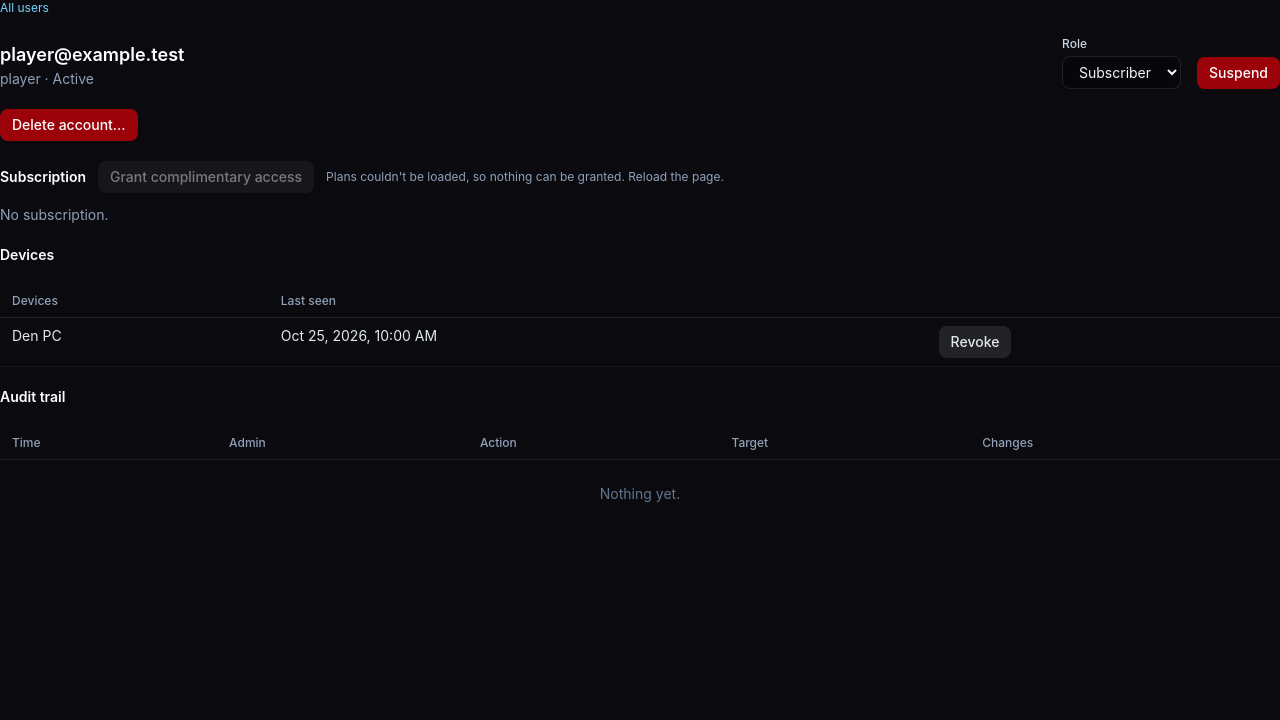
Test: User detail (S13, US-F3, FR-AUTH-7) › US-F3: Suspend needs a reason and sends it; the status updates
Click the button "Suspend" at (1238, 73), box [1197,57,1279,89]
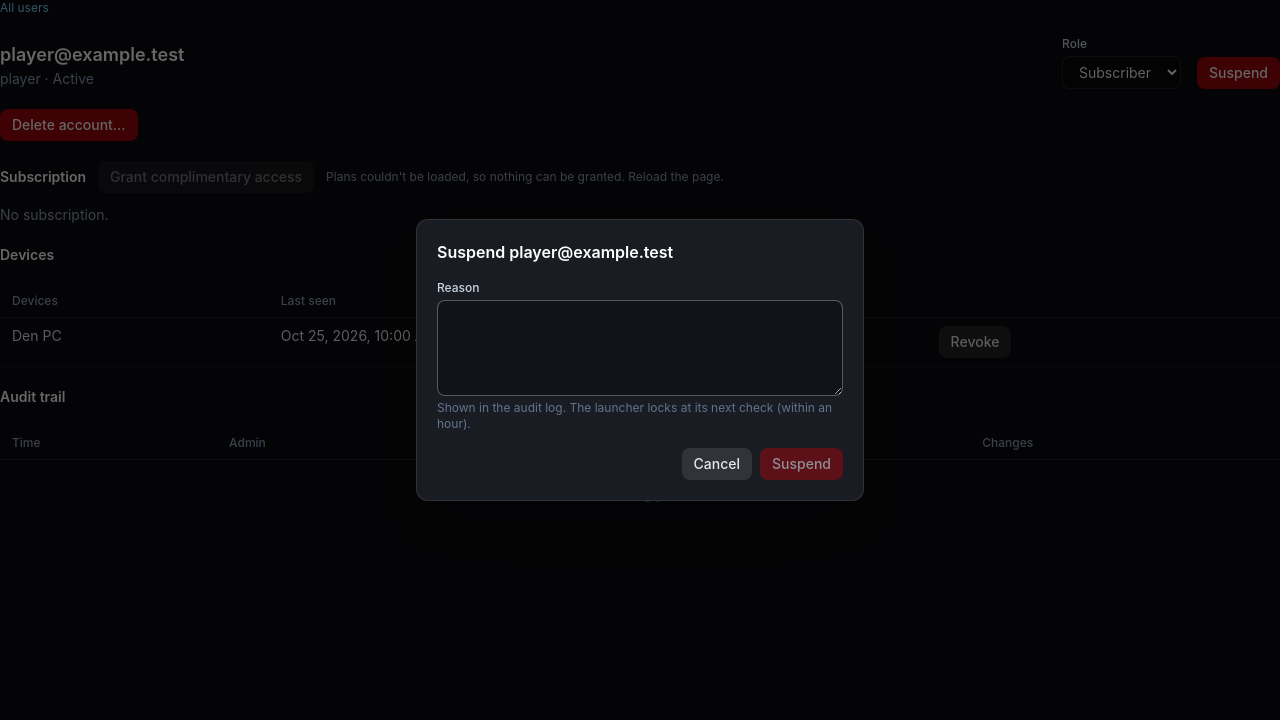
expect the button "Suspend" is disabled: met, box [760,448,843,480]
Type "Account sharing" into the text box labelled "Reason" at (640, 348), box [437,300,843,396]
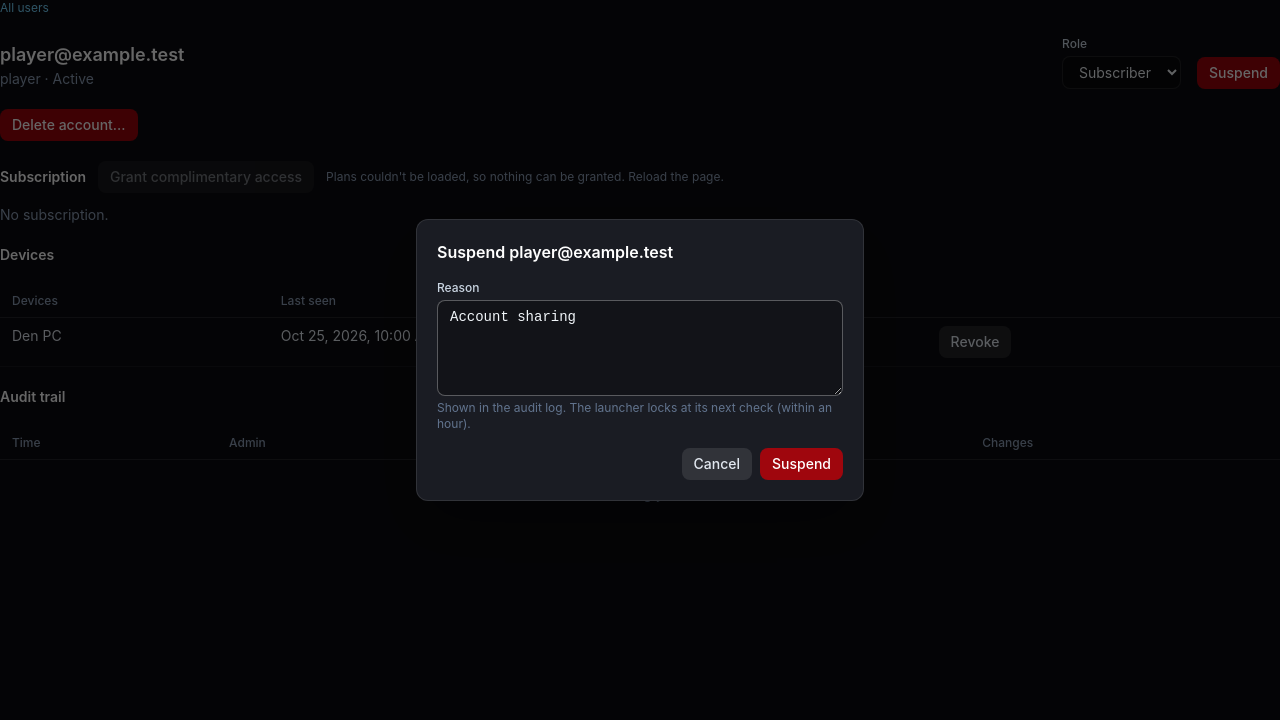
Click the button "Suspend" at (802, 464), box [760,448,843,480]
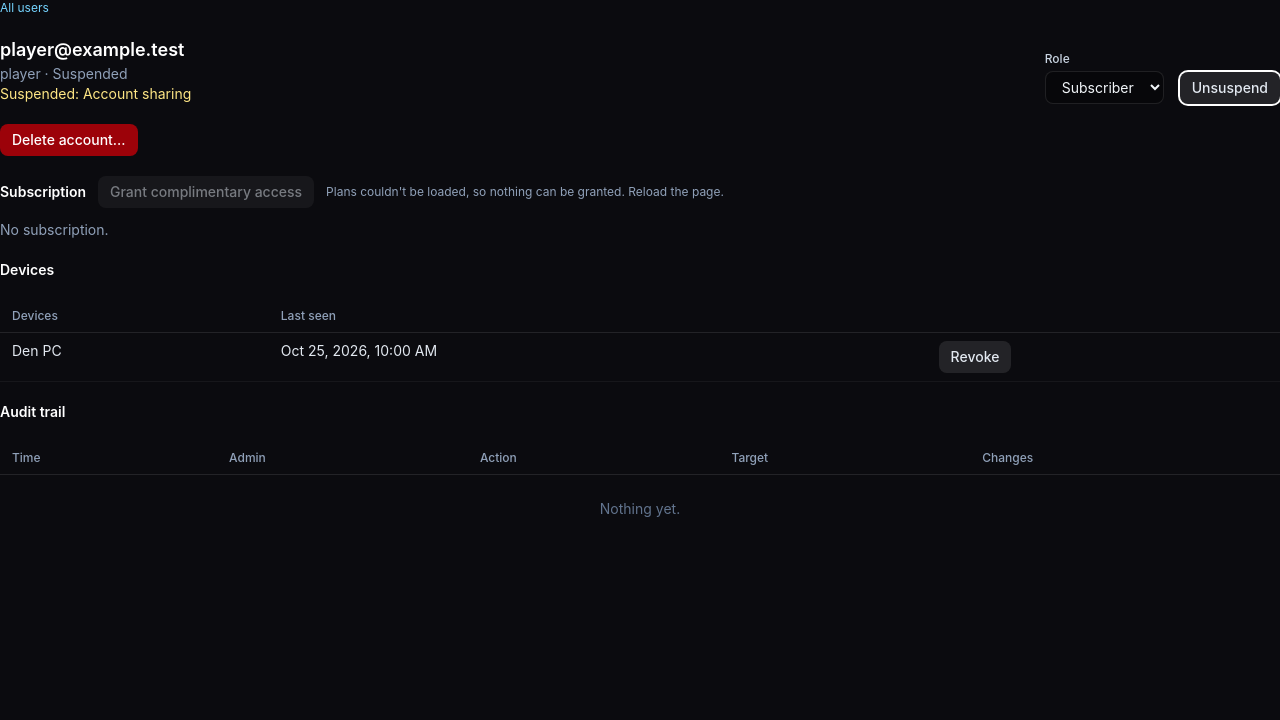
expect the text "Suspended: Account sharing" is shown: met, box [0,85,191,102]
